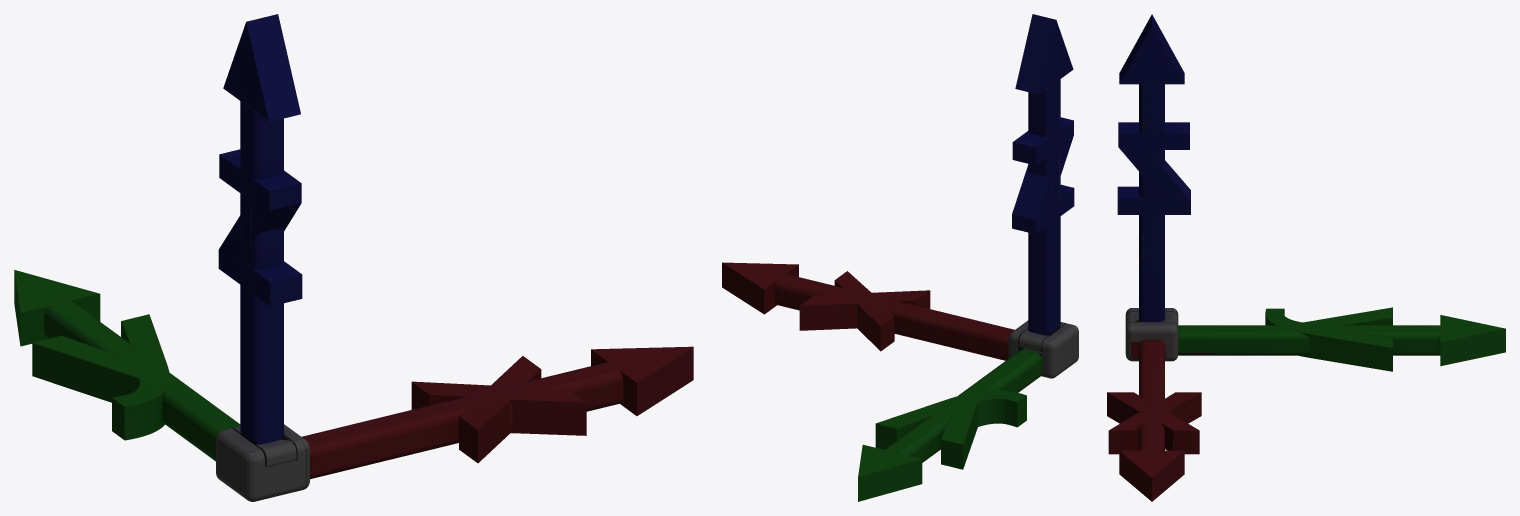
Rendered from coordinates.gltf.
3 views of the same model, side by side, from view 1: azimuth 30°, elevation 25°; view 2: azimuth 150°, elevation 25°; view 3: azimuth 270°, elevation 25° (orthographic). The views are drawn at different scales.
Visible parts, largest first — view 1: right_hand_system_assembled; view 2: right_hand_system_assembled; view 3: right_hand_system_assembled.
Part boxes in pixels (x1,y1,x2,y2): right_hand_system_assembled: (14, 14, 693, 501); right_hand_system_assembled: (722, 14, 1078, 501); right_hand_system_assembled: (1107, 14, 1505, 501).
Size of the model in its own units: 61.69 by 56 by 60.86.
1 material, 1 textured.
